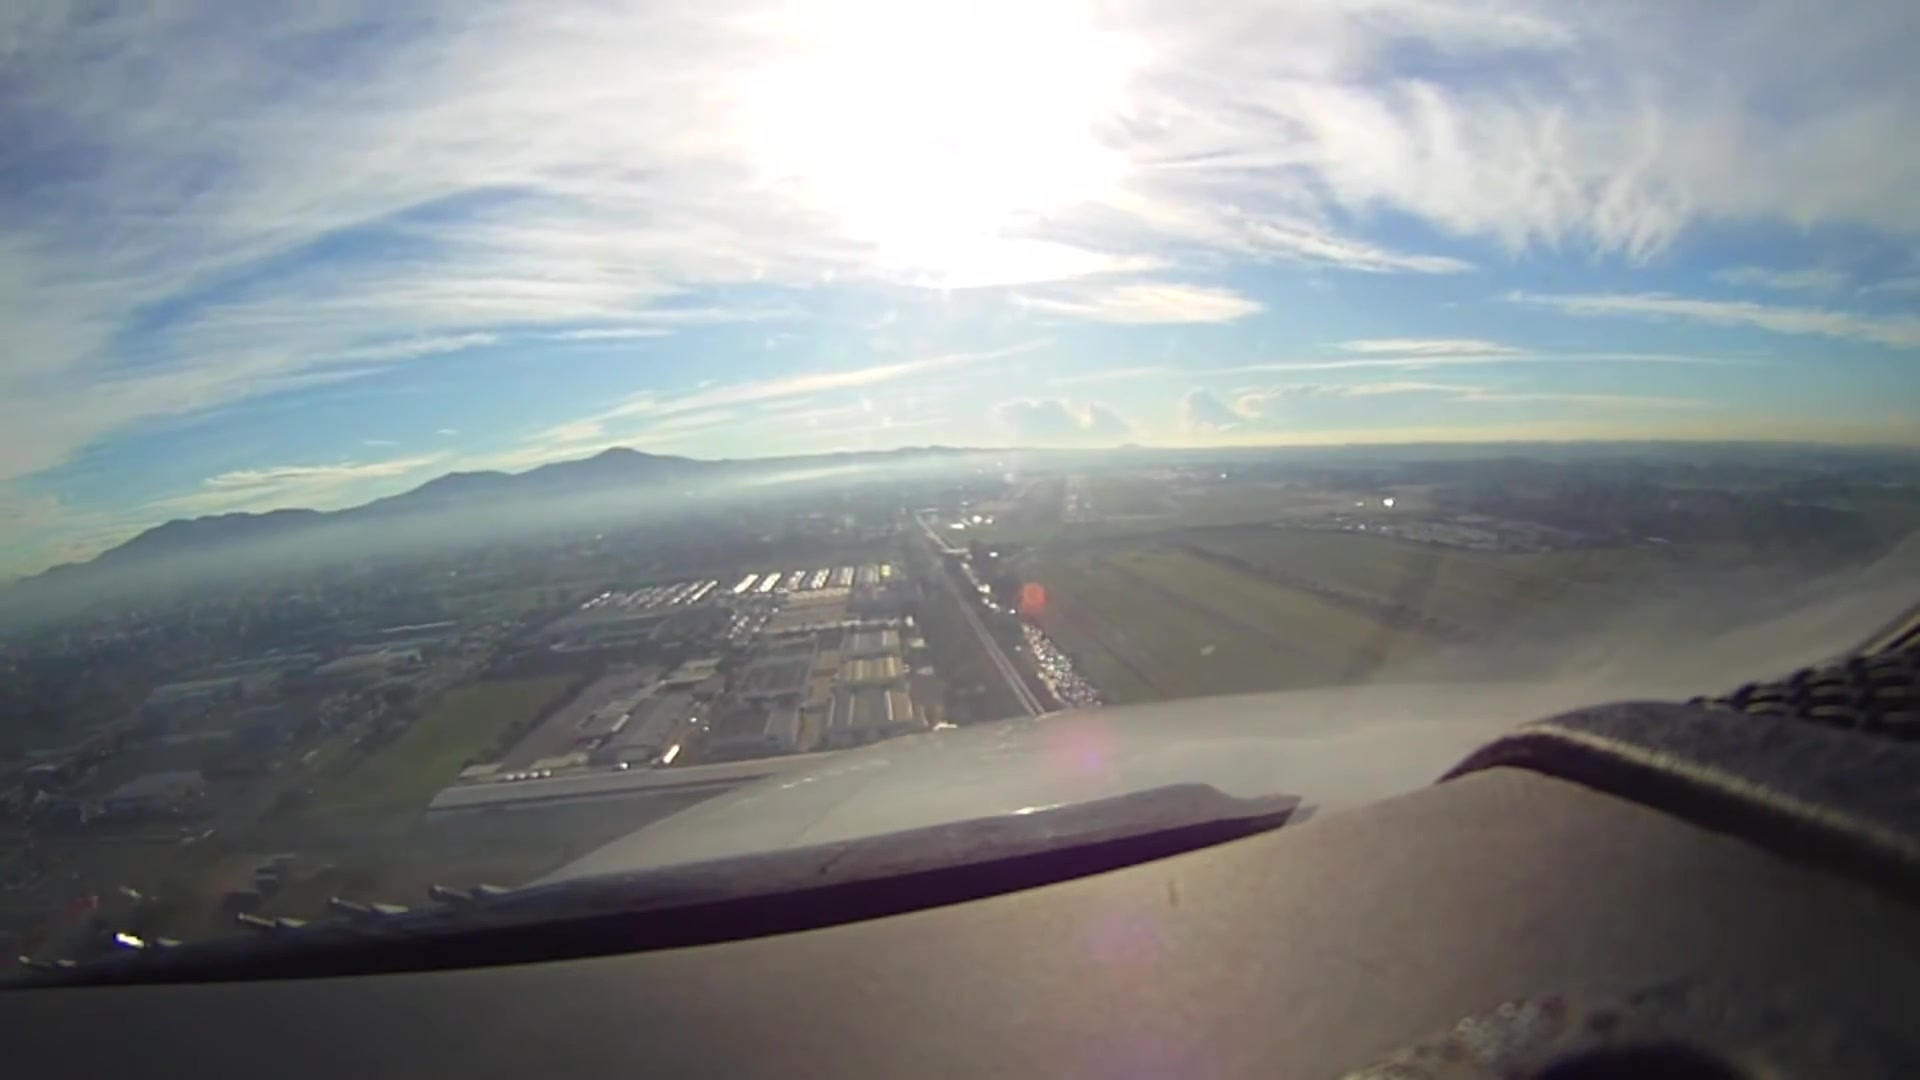runway: (1059, 472, 1096, 525)
